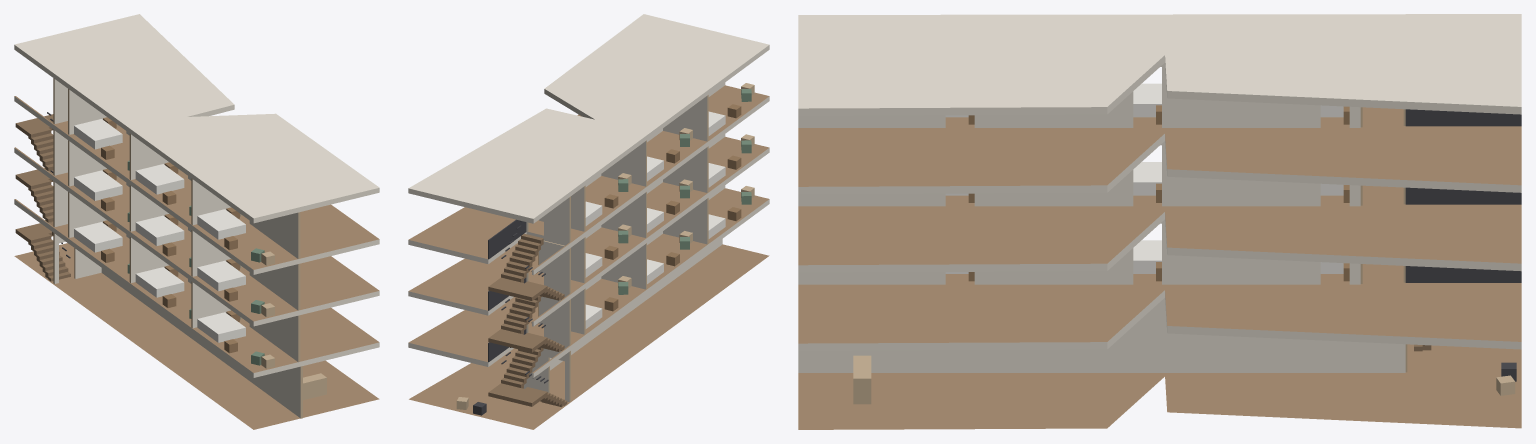
The model's file is interior.glb.
3 views of the same model, side by side, from view 1: azimuth 30°, elevation 25°; view 2: azimuth 150°, elevation 25°; view 3: azimuth 270°, elevation 25° (orthographic). The views are drawn at different scales.
Visible parts, largest first — view 1: slabs, partitions, coarse-s1, coarse-s3, coarse-s2, stair, coarse-s0; view 2: slabs, partitions, stair, coarse-s2, coarse-s1, coarse-s3; view 3: slabs, partitions, stair, coarse-s3, coarse-s0, coarse-s2, coarse-s1.
Part boxes in pixels (x1,y1,x2,y2): slabs: [14, 14, 379, 429]; partitions: [53, 78, 302, 418]; coarse-s1: [74, 220, 274, 368]; coarse-s3: [74, 117, 274, 265]; coarse-s2: [74, 169, 274, 317]; stair: [15, 112, 70, 281]; coarse-s0: [303, 373, 326, 400]; slabs: [408, 14, 769, 429]; partitions: [524, 82, 725, 401]; stair: [488, 219, 567, 407]; coarse-s2: [585, 134, 754, 277]; coarse-s1: [585, 186, 754, 328]; coarse-s3: [585, 83, 754, 225]; slabs: [798, 14, 1521, 429]; partitions: [798, 63, 1407, 372]; stair: [1405, 109, 1521, 351]; coarse-s3: [945, 83, 1349, 124]; coarse-s0: [853, 355, 1516, 404]; coarse-s2: [945, 162, 1349, 202]; coarse-s1: [945, 240, 1349, 281].
Size of the model in its own units: 6.99 by 11.1 by 22.6.
